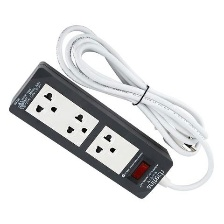three_eye_plug: (6, 58, 176, 202)
